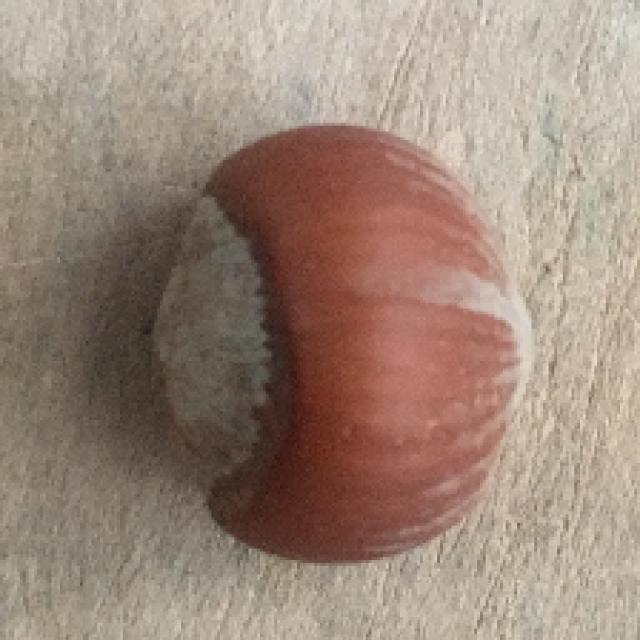qualityHazelnut: (157, 122, 532, 564)
